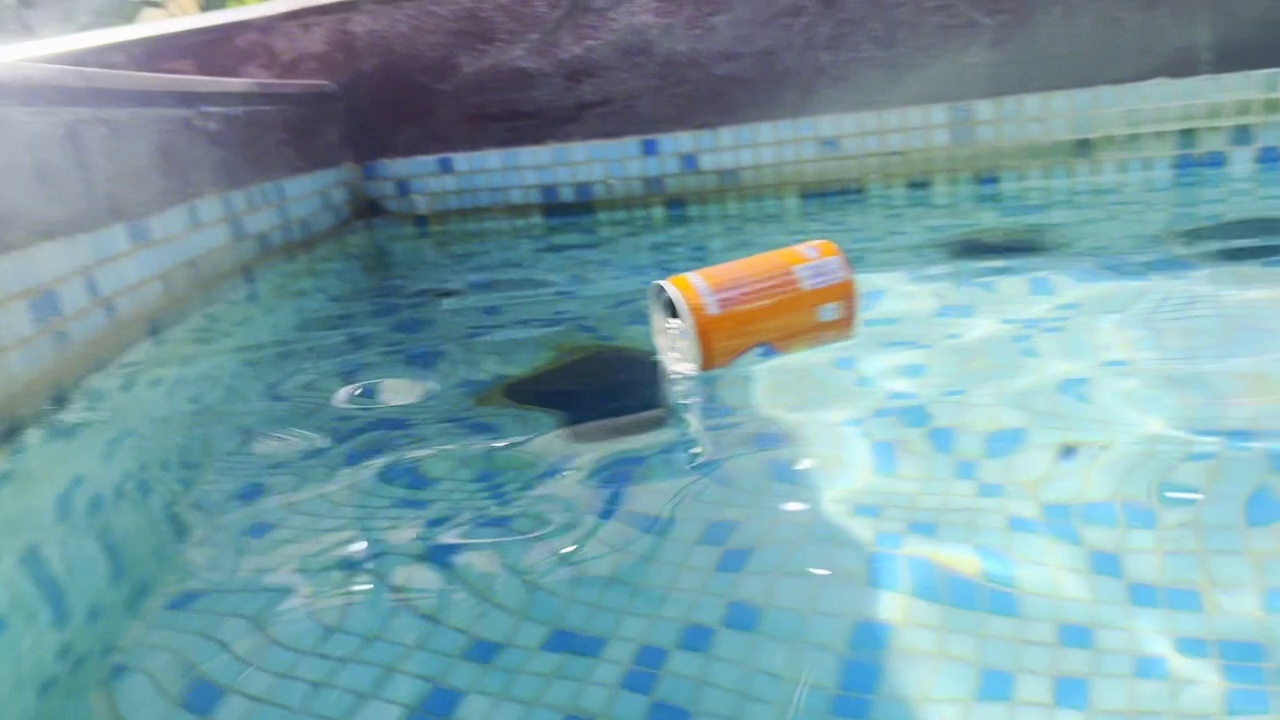debris: (633, 236, 865, 380)
